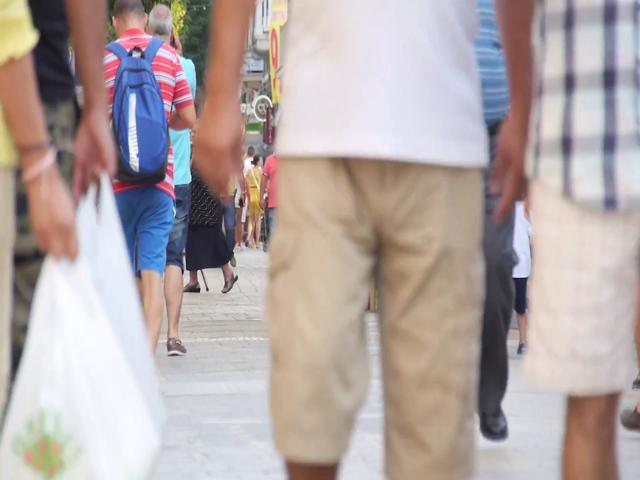shoe: (166, 338, 187, 356), (220, 272, 238, 293), (183, 281, 201, 292)
